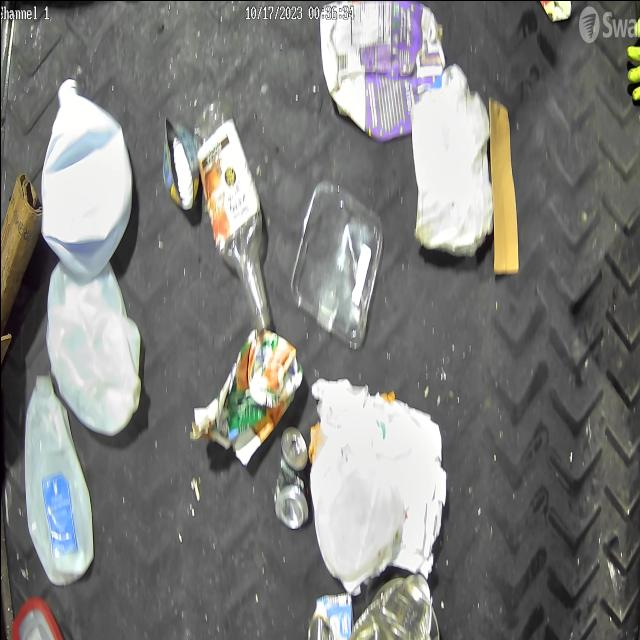can: (334, 574, 440, 640), (161, 113, 199, 210), (274, 426, 308, 530), (305, 591, 353, 640)
milk_jug: (40, 76, 132, 282), (46, 257, 142, 433), (23, 375, 93, 585)
non_white_jug: (318, 0, 444, 142)
plastic_bottle: (197, 110, 264, 324)
